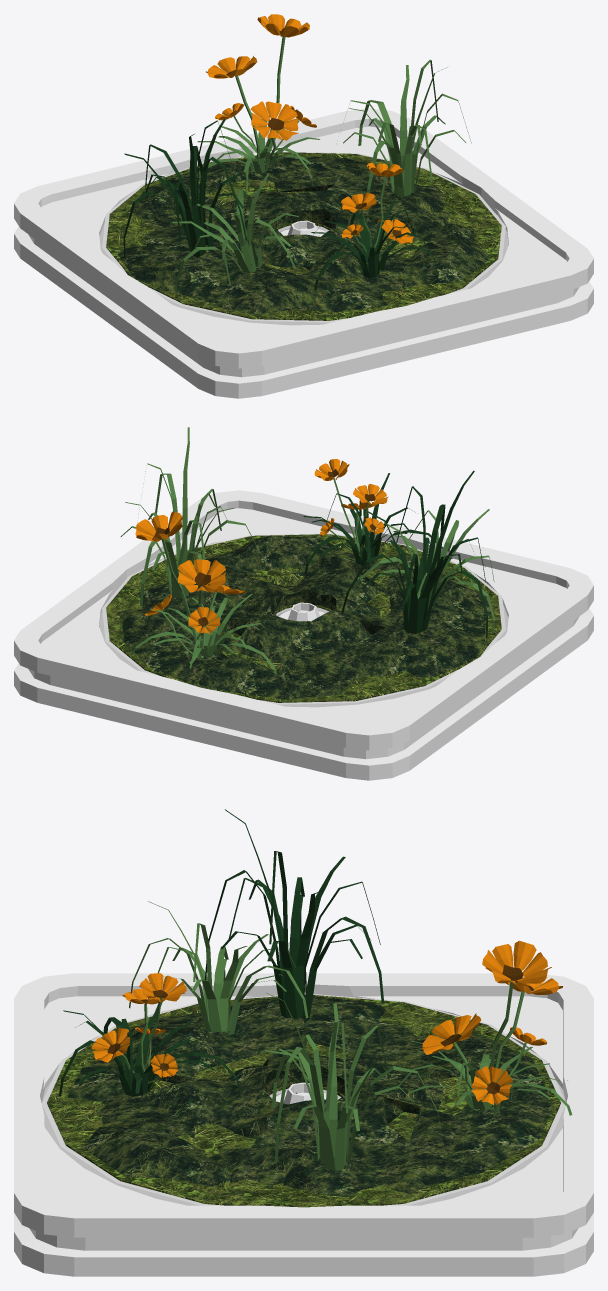
File: green.glb
The picture shows the model from 3 angles, top to bottom: view 1: azimuth 30°, elevation 25°; view 2: azimuth 150°, elevation 25°; view 3: azimuth 270°, elevation 25°; orthographic projection. The views are drawn at different scales.
Parts seen in each view (by area): view 1: 1.box, cd_cover 2, cd_cover 1, Plant_05, Plane.001, Plant_02, Plant_01, Plant_03, Plane.022, Plant_04, cd_cover_backup, cd; view 2: 1.box, cd_cover 2, cd_cover 1, Plant_02, Plane.001, Plant_05, Plant_04, Plant_03, Plane.022, Plant_01, cd_cover_backup, cd (+1 smaller); view 3: 1.box, cd_cover 2, cd_cover 1, Plant_02, Plant_05, Plane.001, Plant_01, Plane.022, Plant_03, cd_cover_backup, Plant_04, cd.
Part boxes in pixels (x1=…): 1.box: x1=14, y1=108, x2=593, y2=398; cd_cover 2: x1=118, y1=155, x2=489, y2=314; cd_cover 1: x1=106, y1=152, x2=501, y2=320; Plant_05: x1=343, y1=59, x2=471, y2=211; Plane.001: x1=206, y1=14, x2=316, y2=166; Plant_02: x1=123, y1=119, x2=252, y2=259; Plant_01: x1=172, y1=173, x2=298, y2=296; Plant_03: x1=311, y1=200, x2=436, y2=290; Plane.022: x1=341, y1=162, x2=413, y2=263; Plant_04: x1=189, y1=109, x2=319, y2=189; cd_cover_backup: x1=102, y1=151, x2=505, y2=322; cd: x1=99, y1=213, x2=508, y2=325; 1.box: x1=14, y1=490, x2=593, y2=780; cd_cover 2: x1=116, y1=536, x2=490, y2=699; cd_cover 1: x1=106, y1=534, x2=501, y2=702; Plant_02: x1=341, y1=470, x2=487, y2=638; Plane.001: x1=135, y1=511, x2=245, y2=659; Plant_05: x1=120, y1=427, x2=263, y2=606; Plant_04: x1=132, y1=593, x2=276, y2=674; Plant_03: x1=303, y1=473, x2=446, y2=574; Plane.022: x1=314, y1=459, x2=388, y2=557; Plant_01: x1=352, y1=509, x2=495, y2=633; cd_cover_backup: x1=102, y1=533, x2=505, y2=704; cd: x1=99, y1=594, x2=508, y2=707; 1.box: x1=14, y1=973, x2=593, y2=1276; cd_cover 2: x1=67, y1=995, x2=558, y2=1196; cd_cover 1: x1=47, y1=994, x2=560, y2=1207; Plant_02: x1=204, y1=809, x2=383, y2=1022; Plant_05: x1=245, y1=992, x2=441, y2=1171; Plane.001: x1=420, y1=940, x2=562, y2=1114; Plant_01: x1=129, y1=901, x2=308, y2=1034; Plane.022: x1=91, y1=973, x2=186, y2=1085; Plant_03: x1=59, y1=1002, x2=240, y2=1096; cd_cover_backup: x1=41, y1=993, x2=565, y2=1205; Plant_04: x1=393, y1=1041, x2=572, y2=1115; cd: x1=42, y1=1080, x2=565, y2=1205.
Bounding box in the file's own units: 2.02 × 0.9894 × 2.02.
8 materials, 2 textured.
